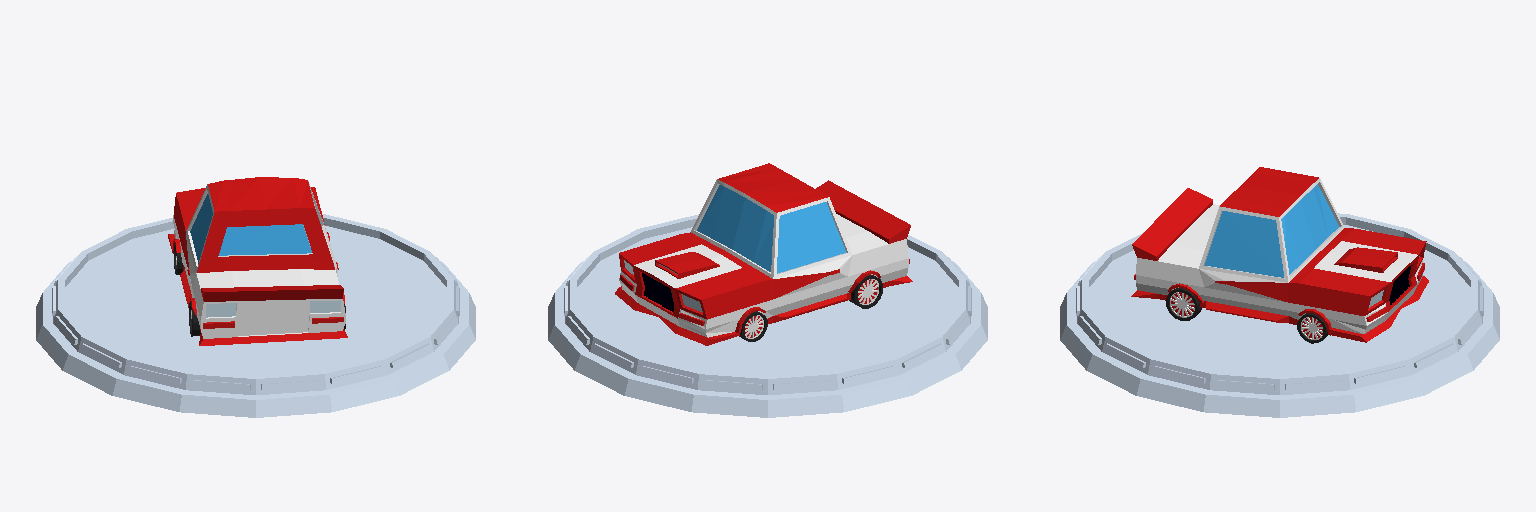
Rendered from car.obj.
The picture shows the model from 3 angles: view 1: azimuth 30°, elevation 25°; view 2: azimuth 150°, elevation 25°; view 3: azimuth 270°, elevation 25°; orthographic projection.
Parts seen in each view (by area): view 1: platform_ID19, body_ID56, backlight_ID75; view 2: platform_ID19, body_ID56, wheel.1_ID84, lattice.1_ID29, wheel1.1_ID93; view 3: platform_ID19, body_ID56, wheel.1_ID84, wheel1.1_ID93.
Part boxes in pixels (x1,y1,x2,y2): platform_ID19: (36, 214, 475, 417); body_ID56: (168, 177, 347, 345); backlight_ID75: (206, 300, 340, 317); platform_ID19: (548, 214, 987, 417); body_ID56: (615, 163, 912, 345); wheel.1_ID84: (849, 275, 882, 308); lattice.1_ID29: (642, 273, 673, 311); wheel1.1_ID93: (739, 311, 767, 341); platform_ID19: (1060, 213, 1499, 417); body_ID56: (1131, 167, 1428, 342); wheel.1_ID84: (1166, 288, 1201, 320); wheel1.1_ID93: (1297, 313, 1327, 343).
Bounding box in the file's own units: 3.95 × 1.32 × 3.89.